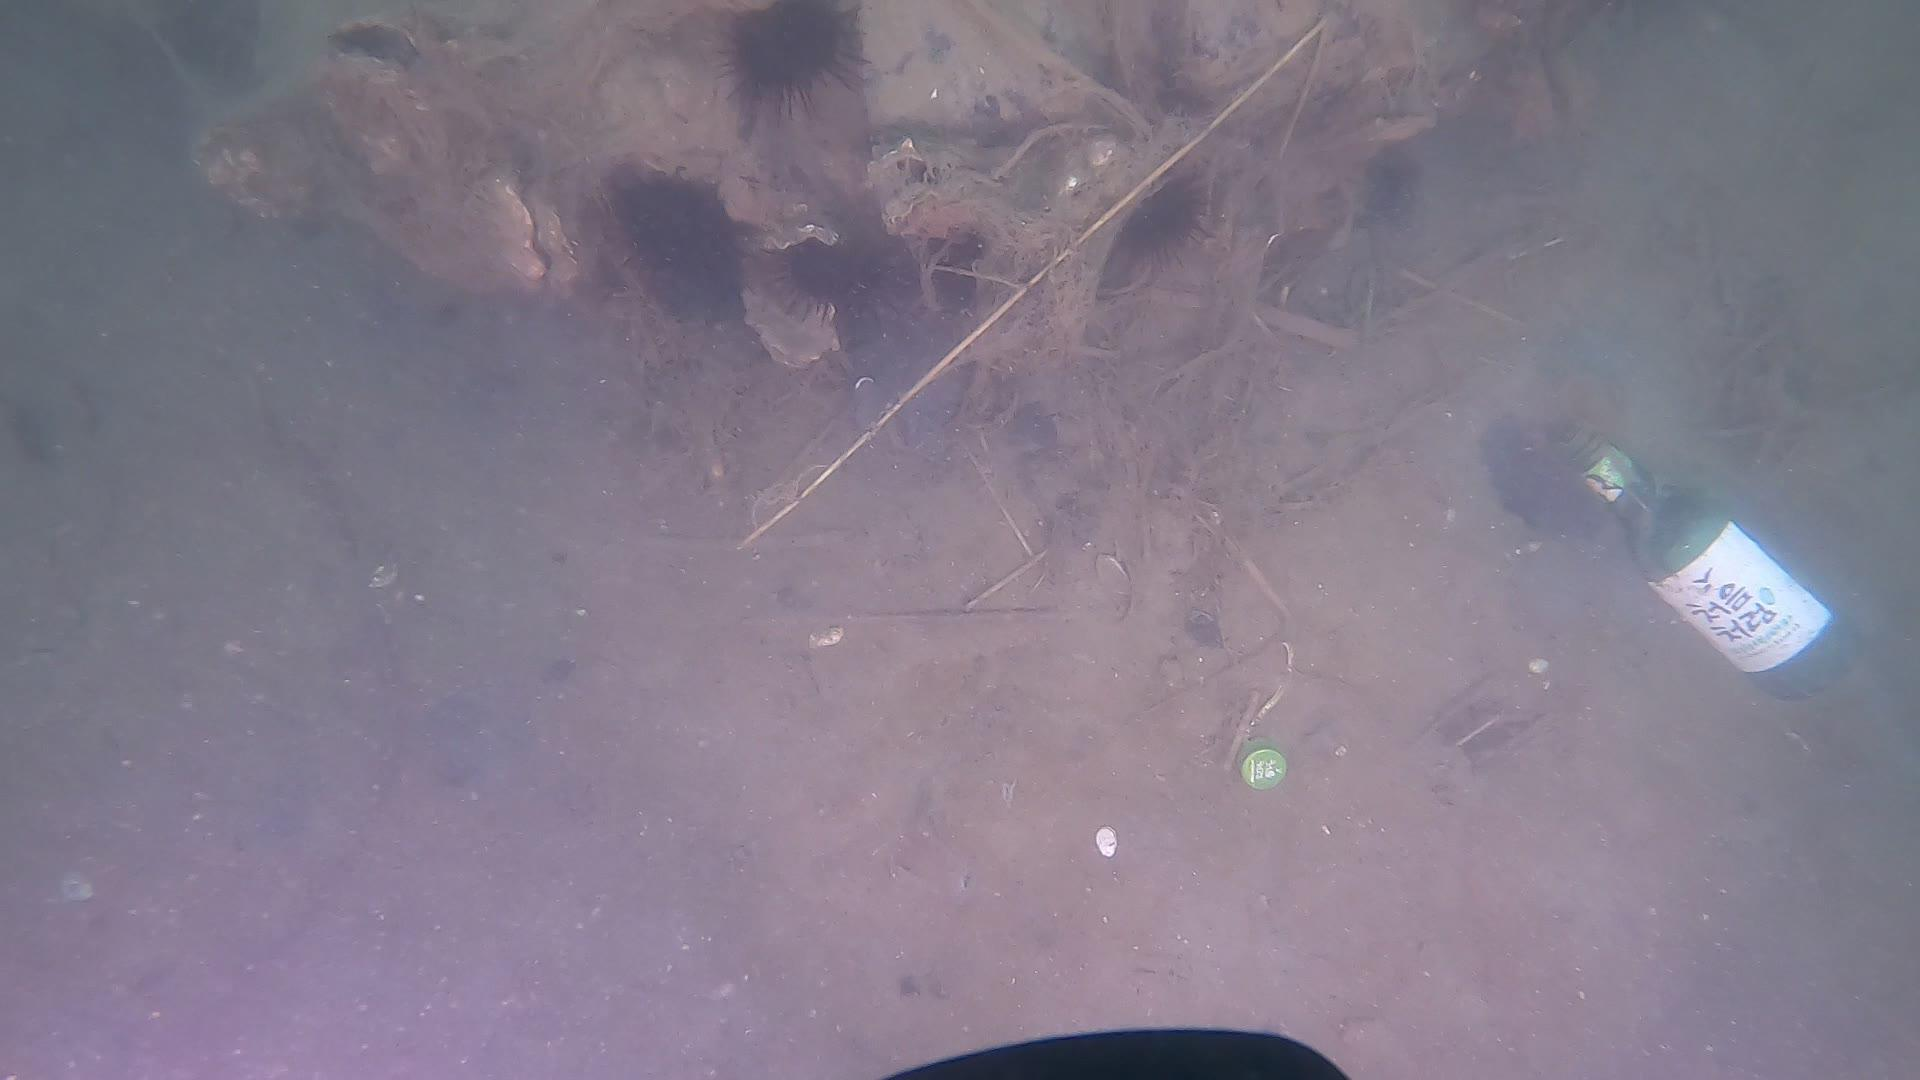other objects: (137, 41, 1867, 833)
